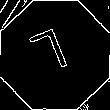L_S: (31, 26, 79, 84)
